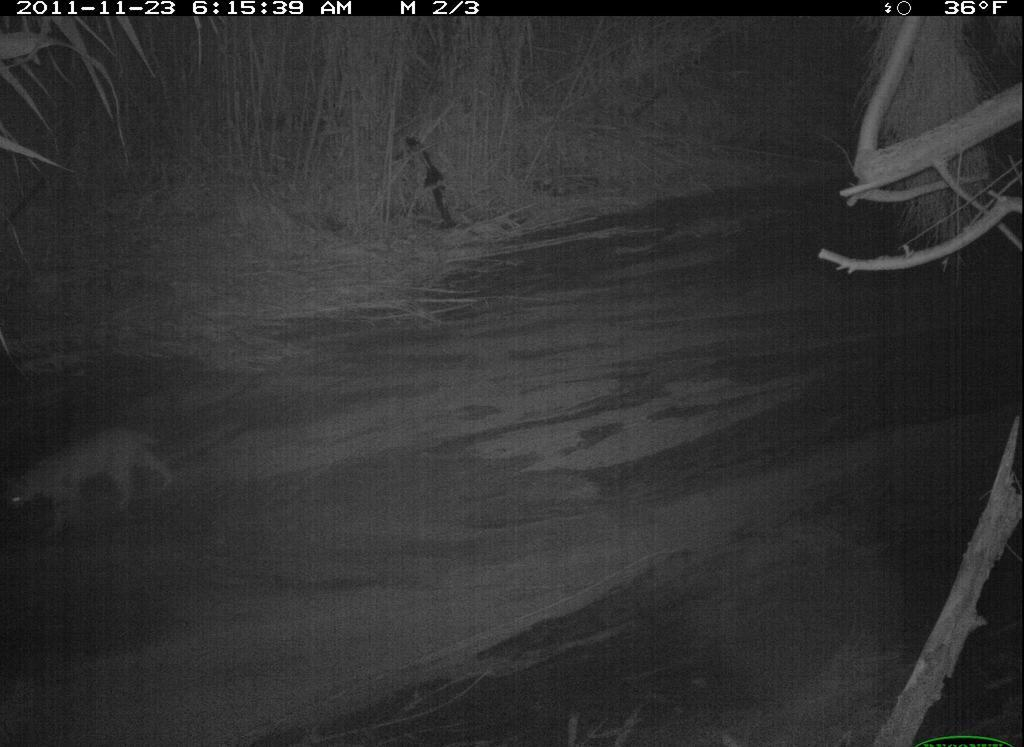bobcat: (1, 414, 190, 535)
